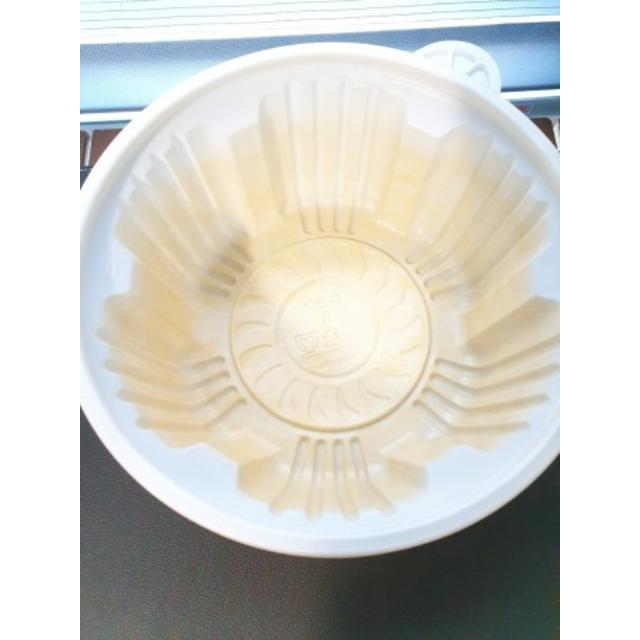Recipiente plastico: (83, 47, 562, 548)
